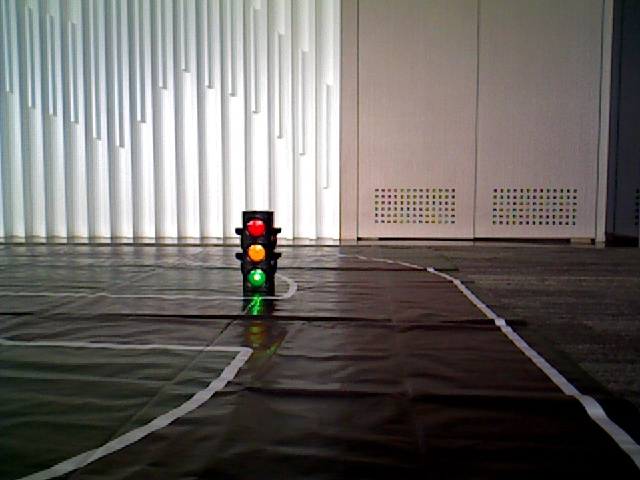green: (244, 210, 272, 285)
